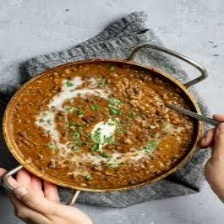dal: (8, 59, 198, 190)
